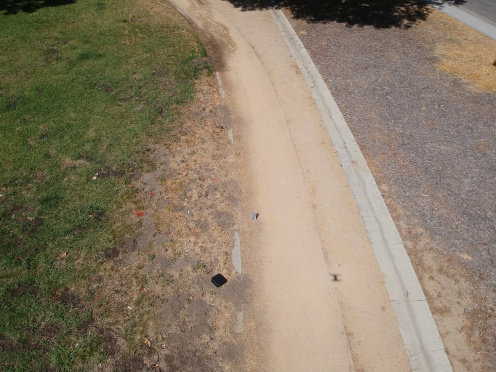bottle: (247, 207, 259, 223)
